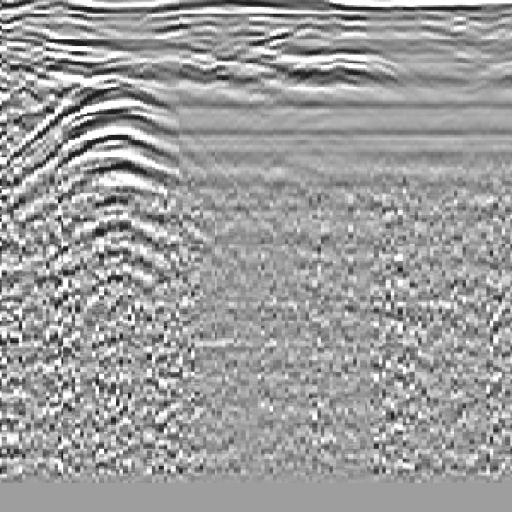metalic: (1, 74, 205, 297)
